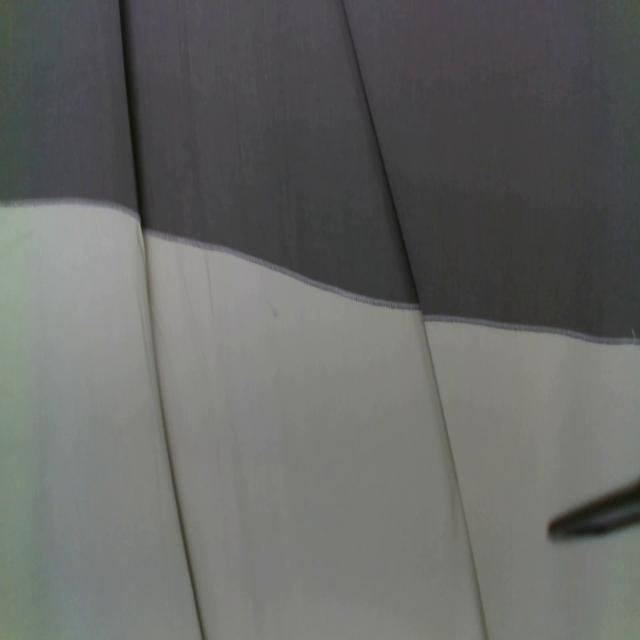crease: (341, 0, 488, 638), (117, 0, 205, 639)
